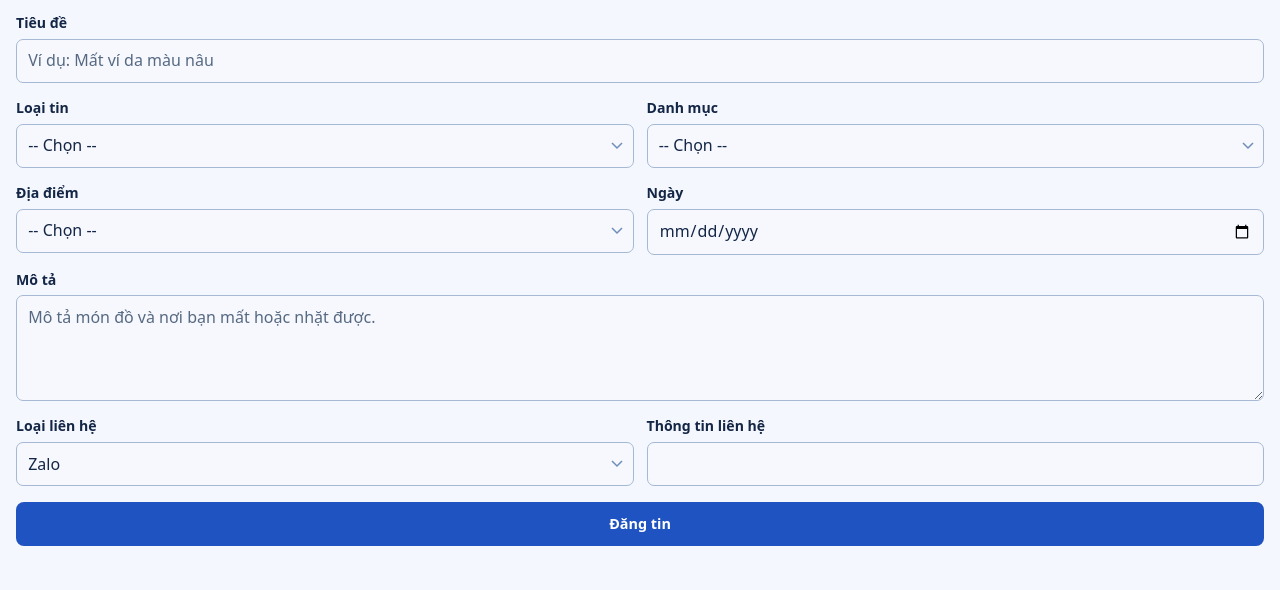
Scenario: Form đăng tin › hiển thị lỗi dưới đúng ô và nối lỗi với trường nhập
Type "Ví" into the field labelled "Tiêu đề". click: {"x": 640, "y": 61}
box: [16, 39, 1264, 83]
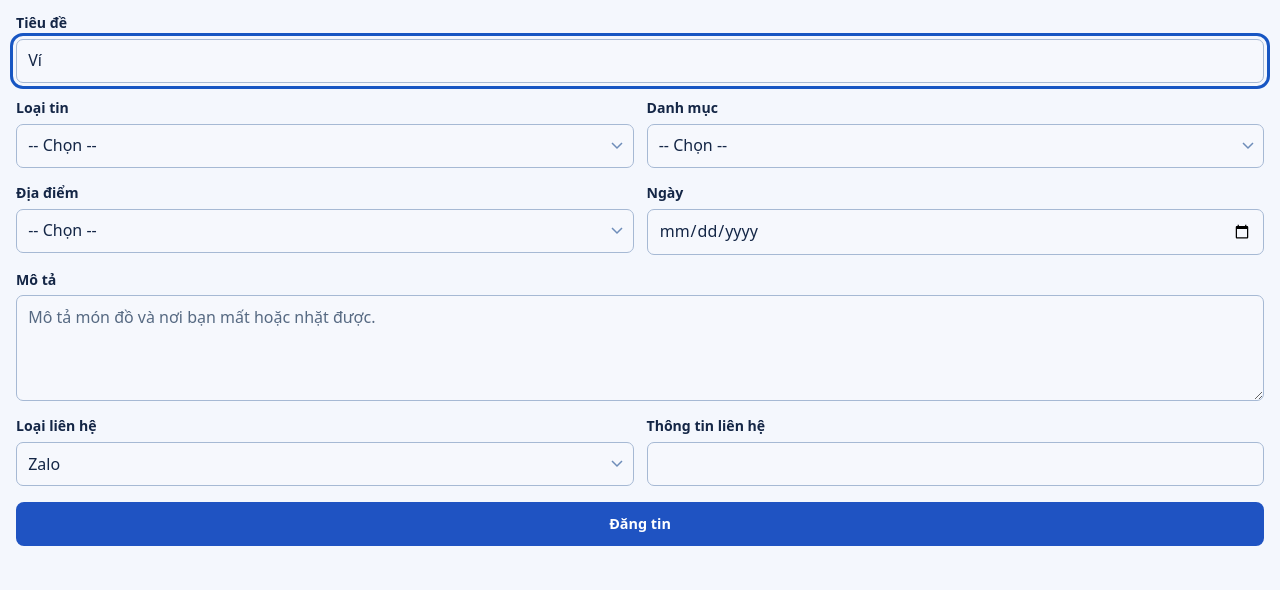
Click the button "Đăng tin". click: {"x": 640, "y": 524}
box: [16, 502, 1264, 546]
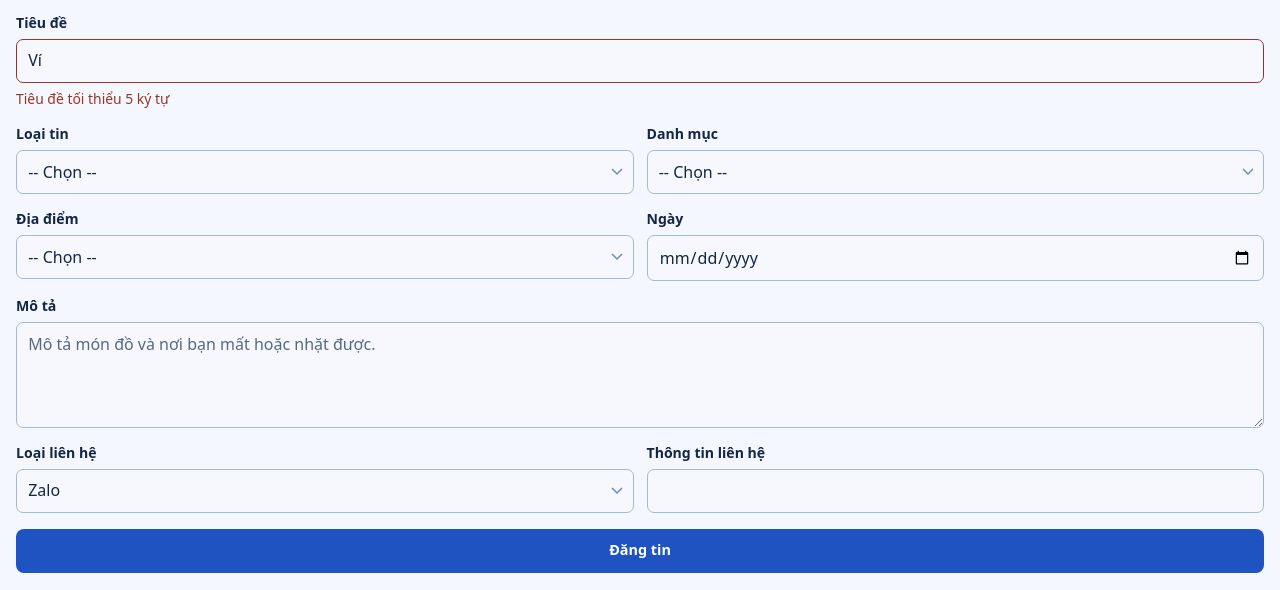
Expected: the field labelled "Tiêu đề" holds "Ví", [16, 39, 1264, 83]
Expected: the message reads "Tiêu đề tối thiểu 5 ký tự", [16, 89, 169, 108]
